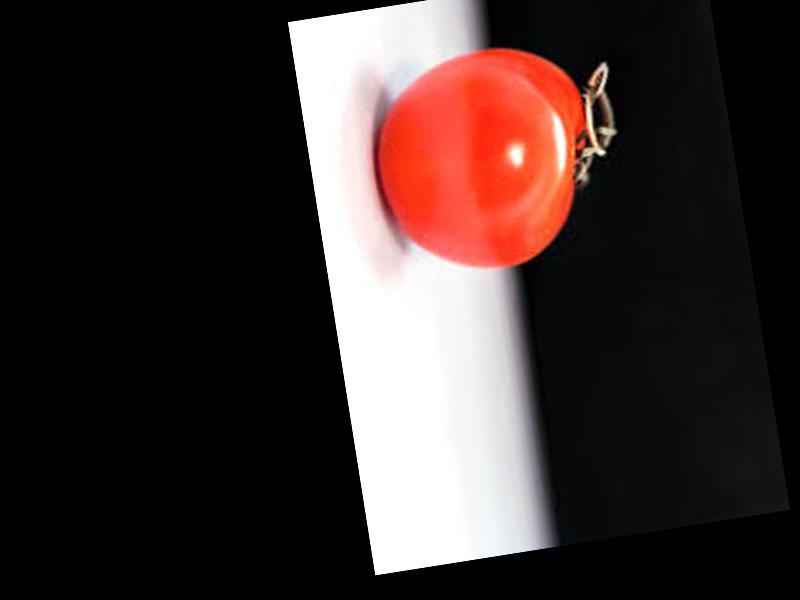Tomato: (362, 35, 607, 285)
